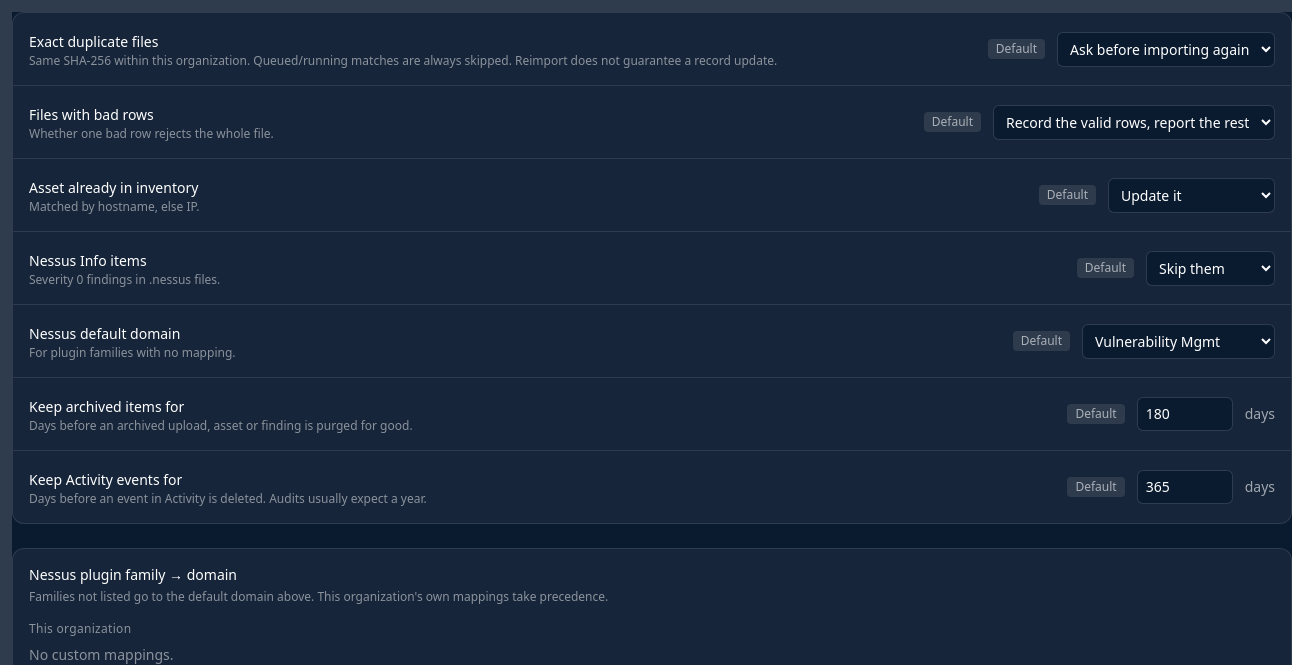
IngestionSettingsPanel › shows a rejected change
This screenshot has width=1292, height=665.
Select "merge" in the dropdown labelled "Asset already in inventory" at (1192, 195), box top-left (1108, 178), bottom-right (1275, 212)
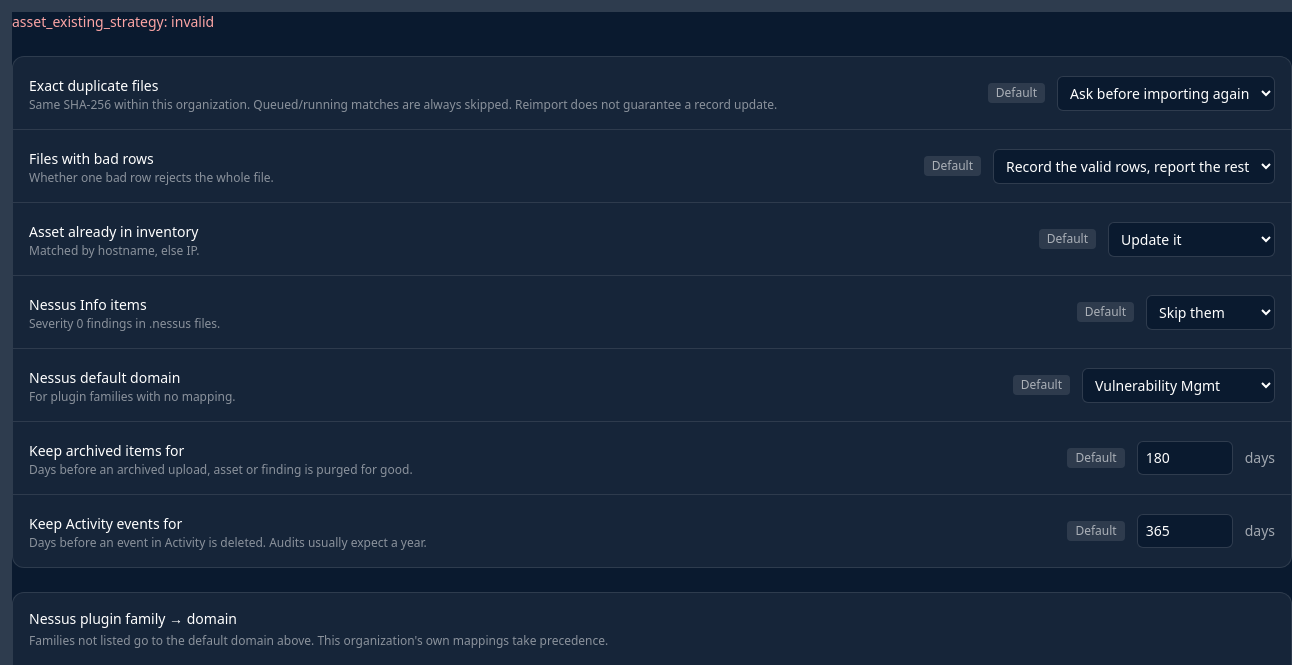
Expected: the text "asset_existing_strategy: invalid" is shown, top-left (12, 12), bottom-right (214, 31)
